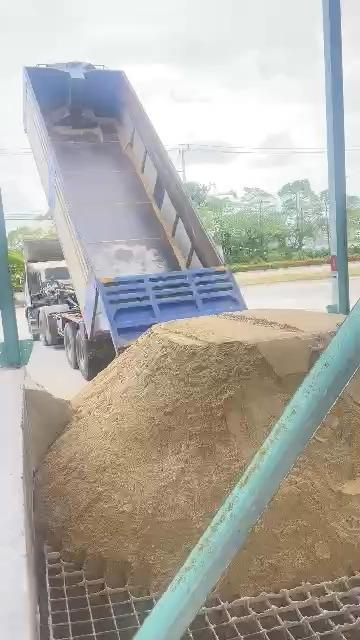sand: (37, 311, 341, 590), (221, 375, 360, 596), (24, 376, 73, 474)
